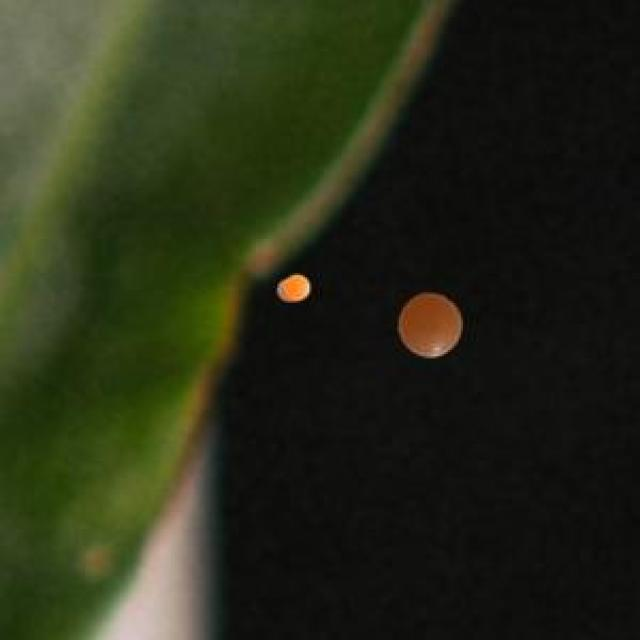Bactidol: (382, 267, 484, 385), (265, 266, 323, 312)
